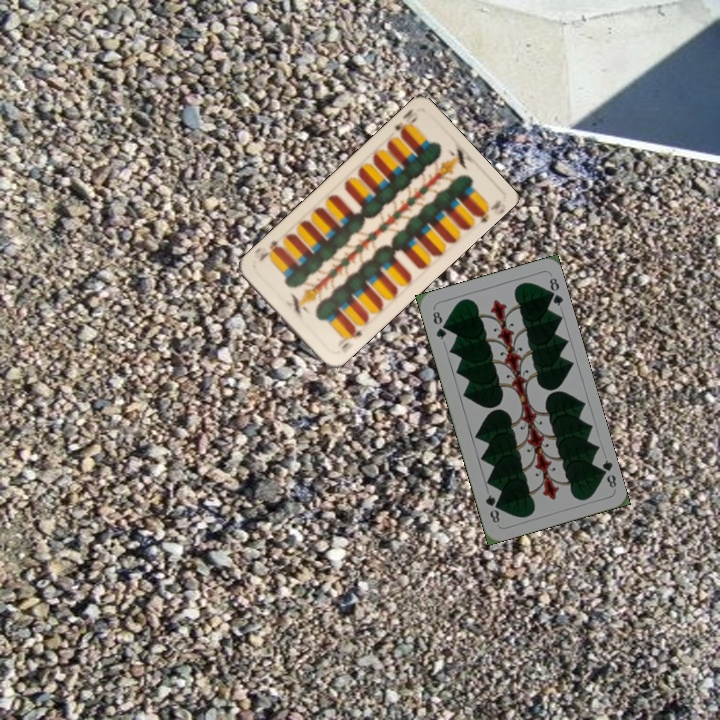E10: (391, 104, 419, 140), (333, 322, 365, 351)
G8: (594, 455, 619, 490), (429, 307, 449, 342)
